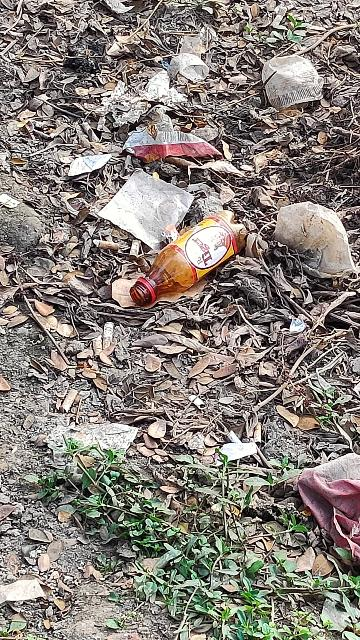bottle: (126, 195, 255, 312)
